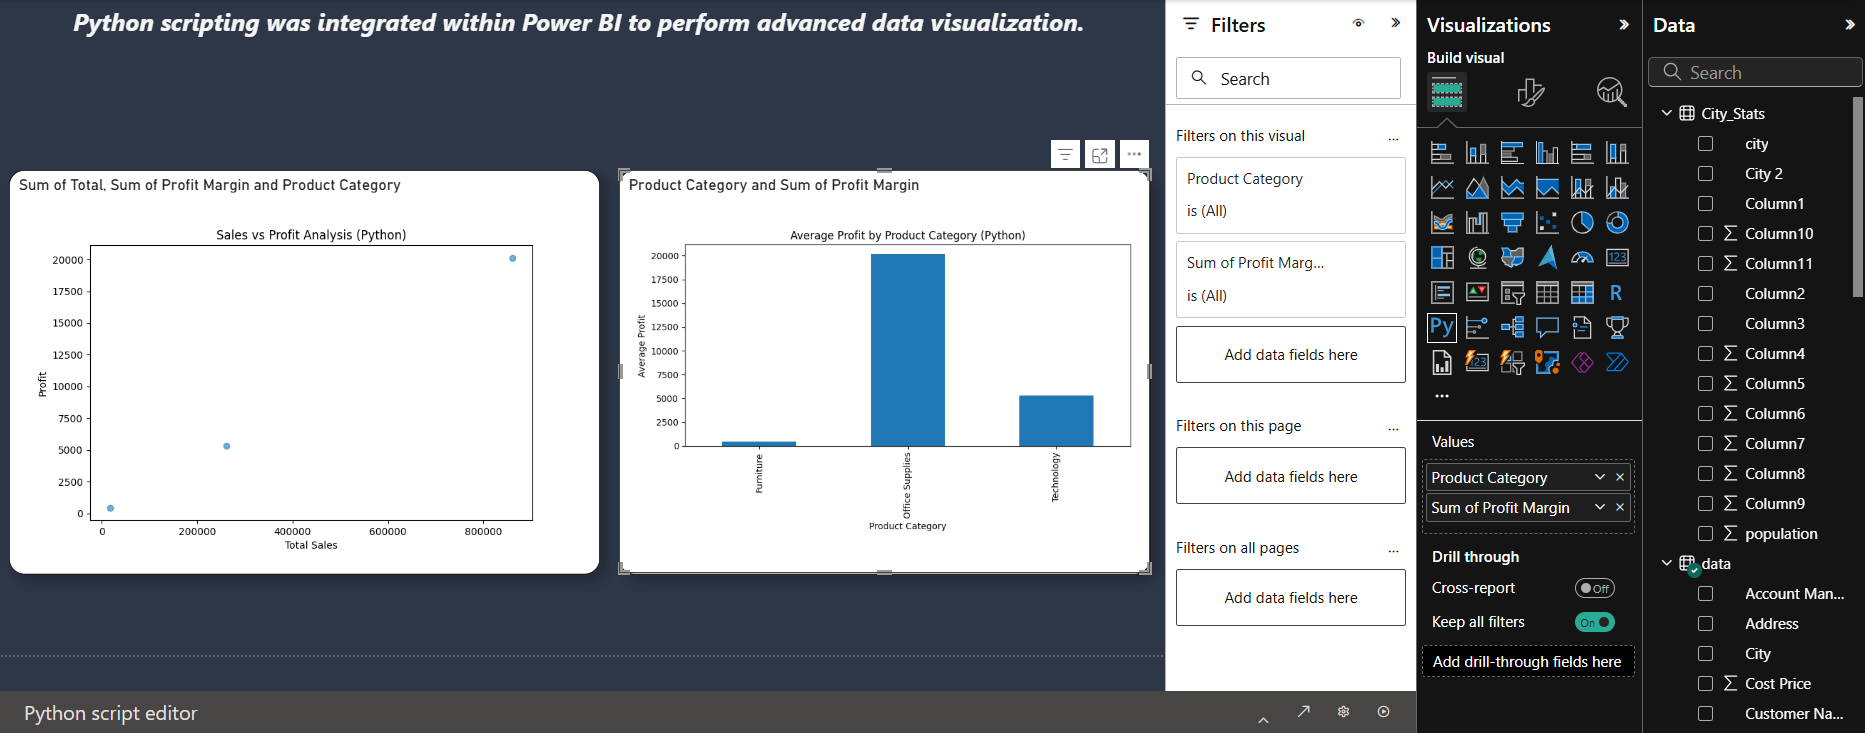

This screenshot's page, from the dashboard's own definition file:
{"tool":"powerbi","page":{"name":"Page 4","canvas":[1280,720],"ordinal":3},"visuals":[{"type":"pythonVisual","fields":{"Values":["Sum(data.Total)","Sum(data.Profit Margin)","data.Product Category"]},"box":[10.6,186.4,648.5,443.9],"z":0},{"type":"actionButton","box":[0,0,100,40],"z":1000},{"type":"textbox","box":[0,0,1280.3,128.8],"z":2000},{"type":"pythonVisual","fields":{"Values":["data.Product Category","Sum(data.Profit Margin)"]},"box":[680.3,186.4,583.3,443.9],"z":3000}]}

Visuals, with their boxes on the page's 1280x720 design canvas (x1, y1, x2, y2). These are canvas units, not pixel positions in the 1865x733 screenshot, which may show the page scaled, cropped or inside an application window:
pythonVisual - Sum(data.Total) x Sum(data.Profit Margin): 11 186 659 630
actionButton: 0 0 100 40
textbox: 0 0 1280 129
pythonVisual - data.Product Category x Sum(data.Profit Margin): 680 186 1264 630
